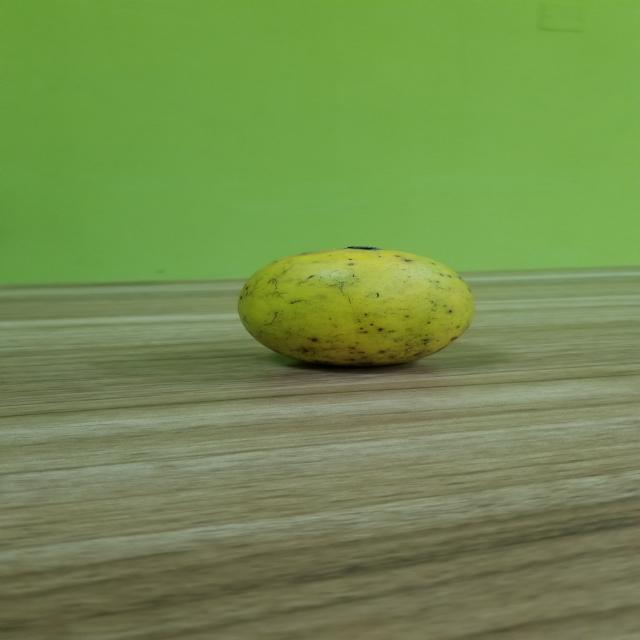Ripe orange: (226, 243, 474, 378)
